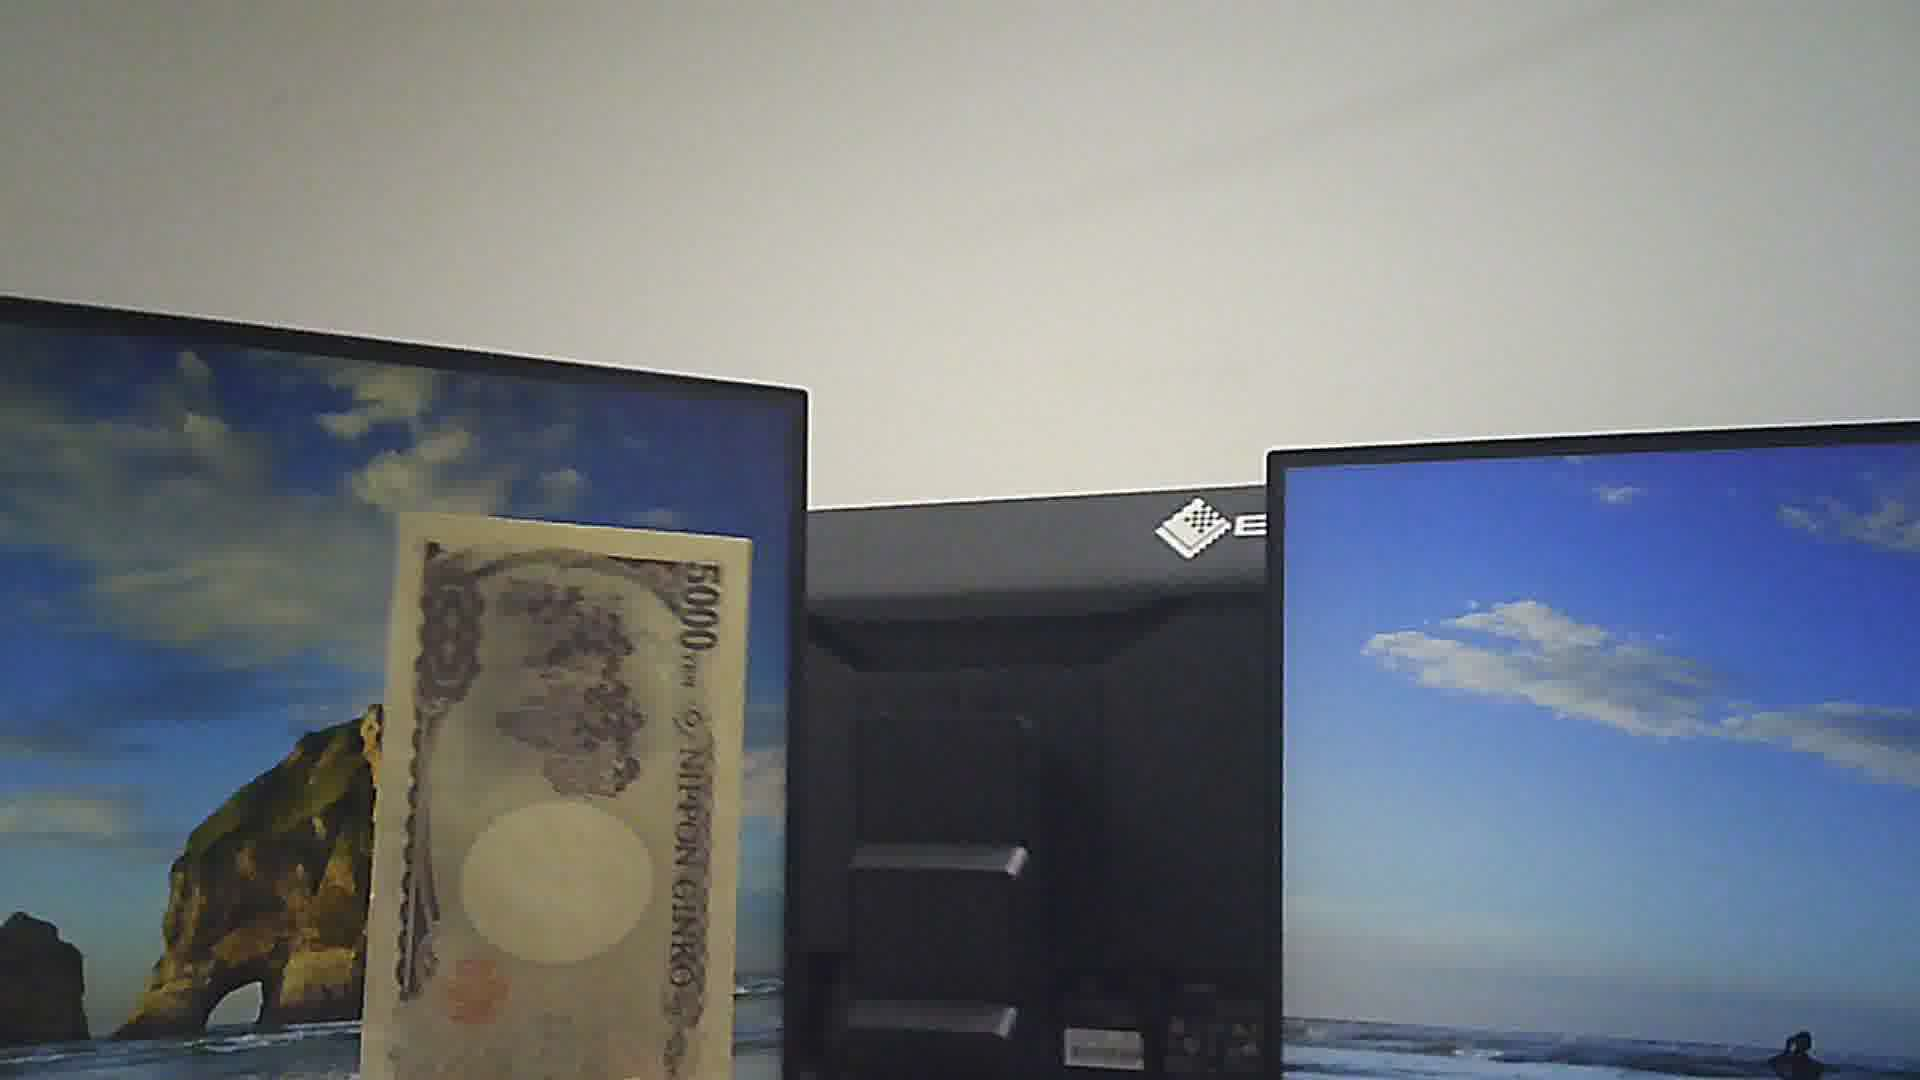5,000 Yen: (355, 505, 748, 1079)
